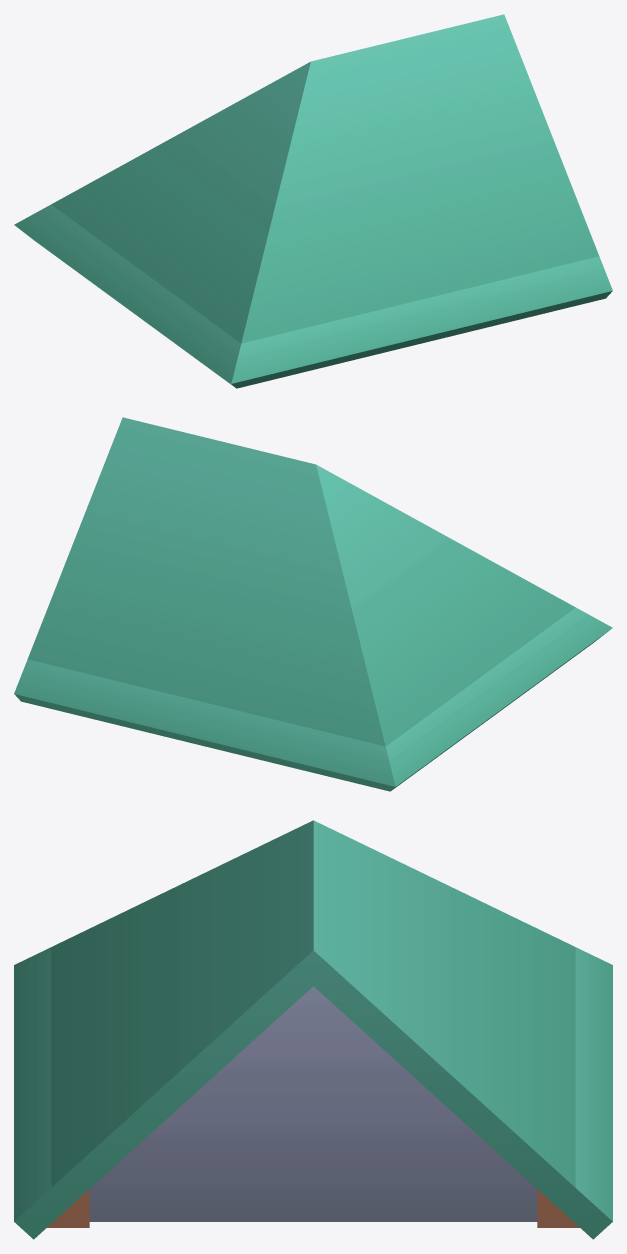
File: roof-gable-end.glb
The picture shows the model from 3 angles, top to bottom: view 1: azimuth 30°, elevation 25°; view 2: azimuth 150°, elevation 25°; view 3: azimuth 270°, elevation 25°; orthographic projection. The views are drawn at different scales.
Visible parts, largest first — view 1: roof-gable-end; view 2: roof-gable-end; view 3: roof-gable-end.
Part boxes in pixels (x1,y1,x2,y2): roof-gable-end: (14, 14, 612, 388); roof-gable-end: (14, 417, 612, 791); roof-gable-end: (14, 820, 612, 1239).
Size of the model in its own units: 1.09 by 0.5707 by 1.07.
1 material, 1 textured.
